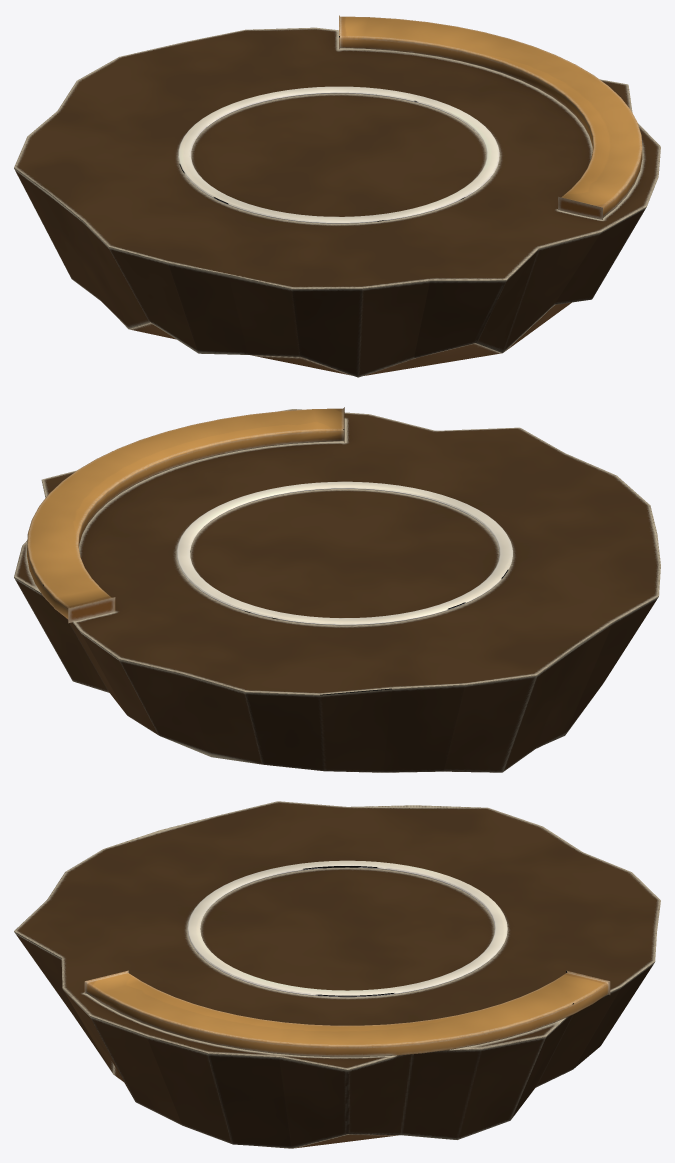
Rendered from FT_Platform.glb.
3 views of the same model, one above another, from view 1: azimuth 30°, elevation 25°; view 2: azimuth 150°, elevation 25°; view 3: azimuth 270°, elevation 25° (orthographic). The views are drawn at different scales.
Visible parts, largest first — view 1: FT_Platform; view 2: FT_Platform; view 3: FT_Platform.
Part boxes in pixels (bbox=[...]): FT_Platform: bbox=[14, 15, 660, 377]; FT_Platform: bbox=[14, 407, 660, 772]; FT_Platform: bbox=[14, 801, 660, 1148].
Size of the model in its own units: 3.9 by 0.91 by 3.96.
3 materials, 3 textured.
